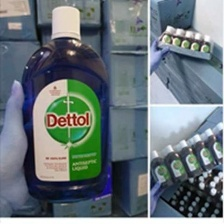book: (152, 26, 224, 105), (44, 153, 115, 220), (0, 35, 45, 113), (96, 106, 153, 164), (103, 48, 155, 111), (99, 0, 153, 54), (140, 0, 201, 45), (112, 155, 152, 215), (30, 0, 104, 31)
cleaning_solution: (17, 4, 113, 204), (175, 139, 204, 181), (160, 142, 187, 186), (188, 133, 219, 171), (147, 148, 173, 190), (200, 127, 223, 165), (157, 23, 175, 51), (178, 29, 195, 56), (169, 26, 186, 53), (196, 33, 212, 58), (187, 32, 203, 56)
